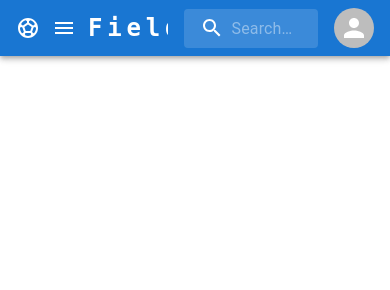
Test: ResponsiveAppBar › should render the sport menu correctly
Click the button named "account of current user".
click(64, 28)  # box x1=40 y1=4 x2=88 y2=52
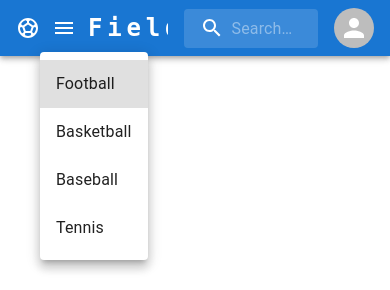
Expected: the menu is shown, x1=40 y1=52 x2=148 y2=260
Expected: the number of menu items is 4, x1=40 y1=60 x2=148 y2=108; x1=56 y1=122 x2=132 y2=141; x1=56 y1=170 x2=118 y2=189; x1=56 y1=218 x2=104 y2=237
Expected: the menu item "Football" is shown, x1=40 y1=60 x2=148 y2=108
